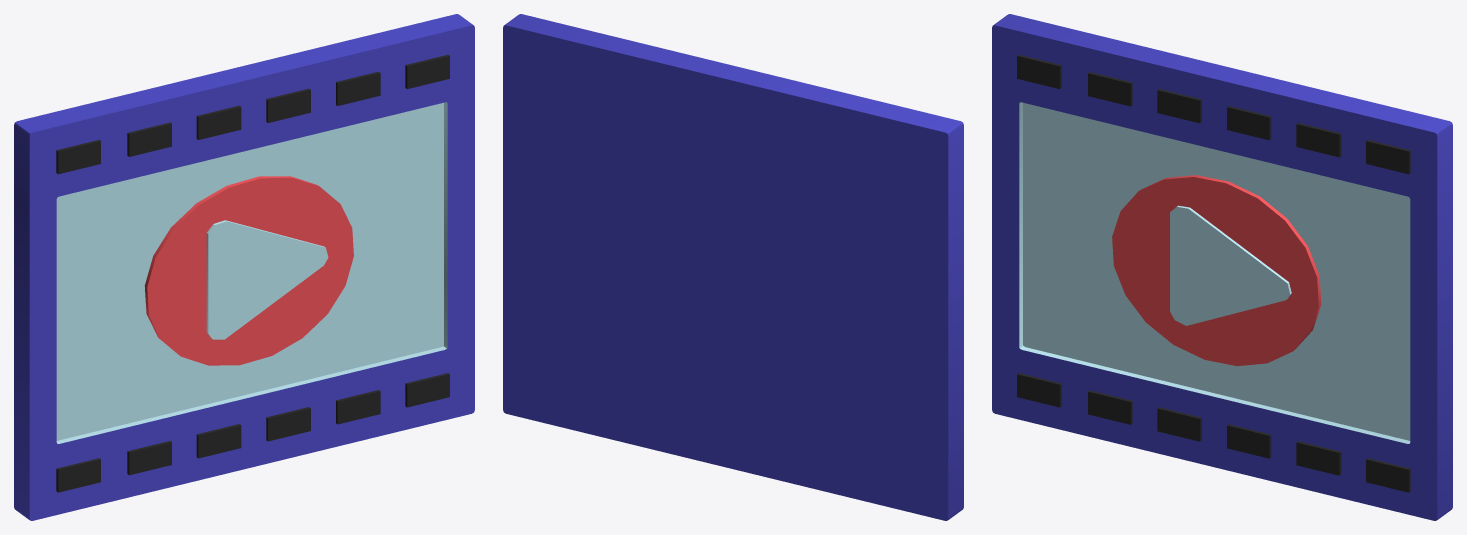
Rendered from video_3d.glb.
The picture shows the model from 3 angles, left to right: view 1: azimuth 30°, elevation 25°; view 2: azimuth 150°, elevation 25°; view 3: azimuth 330°, elevation 25°; orthographic projection.
Visible parts, largest first — view 1: Box003; view 2: Box003; view 3: Box003.
Boxes of the visible parts, x1,y1,x2,y2 form: Box003: [14, 14, 474, 520]; Box003: [503, 14, 963, 520]; Box003: [992, 14, 1452, 520].
Size of the model in its own units: 0.12 by 0.1 by 0.0081.
1 material, 1 textured.
